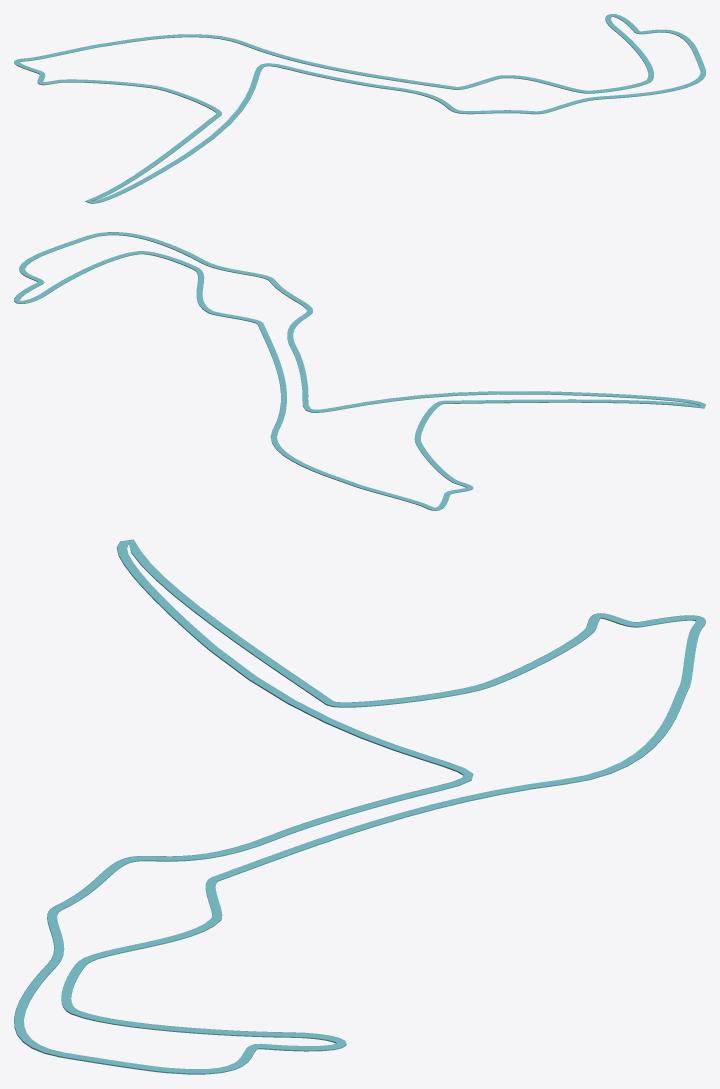
Rendered from lenta2.dae.
3 renders of one model, top to bottom at view 1: azimuth 30°, elevation 25°; view 2: azimuth 150°, elevation 25°; view 3: azimuth 270°, elevation 25°, orthographic. The views are drawn at different scales.
Parts seen in each view (by area): view 1: BezierCurve_001; view 2: BezierCurve_001; view 3: BezierCurve_001.
Boxes of the visible parts, x1,y1,x2,y2 form: BezierCurve_001: (14, 14, 705, 203); BezierCurve_001: (14, 232, 705, 510); BezierCurve_001: (14, 539, 705, 1074).
Bounding box in the file's own units: 9 × 4.93 × 0.00971.
